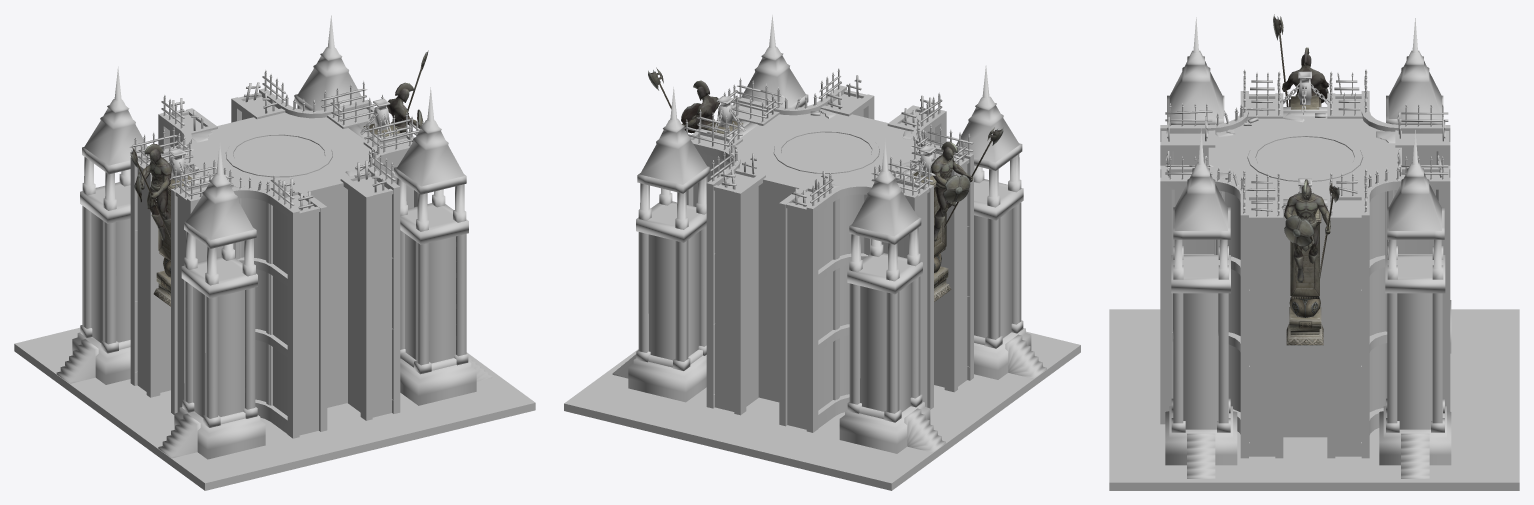
File: Cell2UD.fbx
3 renders of one model, left to right at view 1: azimuth 30°, elevation 25°; view 2: azimuth 150°, elevation 25°; view 3: azimuth 270°, elevation 25°, orthographic. The views are drawn at different scales.
Visible parts, largest first — view 1: Cell2UD; view 2: Cell2UD; view 3: Cell2UD.
Boxes of the visible parts, left/top/right/bottom form: Cell2UD: left=14, top=15, right=535, bottom=490; Cell2UD: left=564, top=15, right=1080, bottom=490; Cell2UD: left=1109, top=14, right=1519, bottom=490.
Size of the model in its own units: 31.52 by 28.01 by 31.52.
